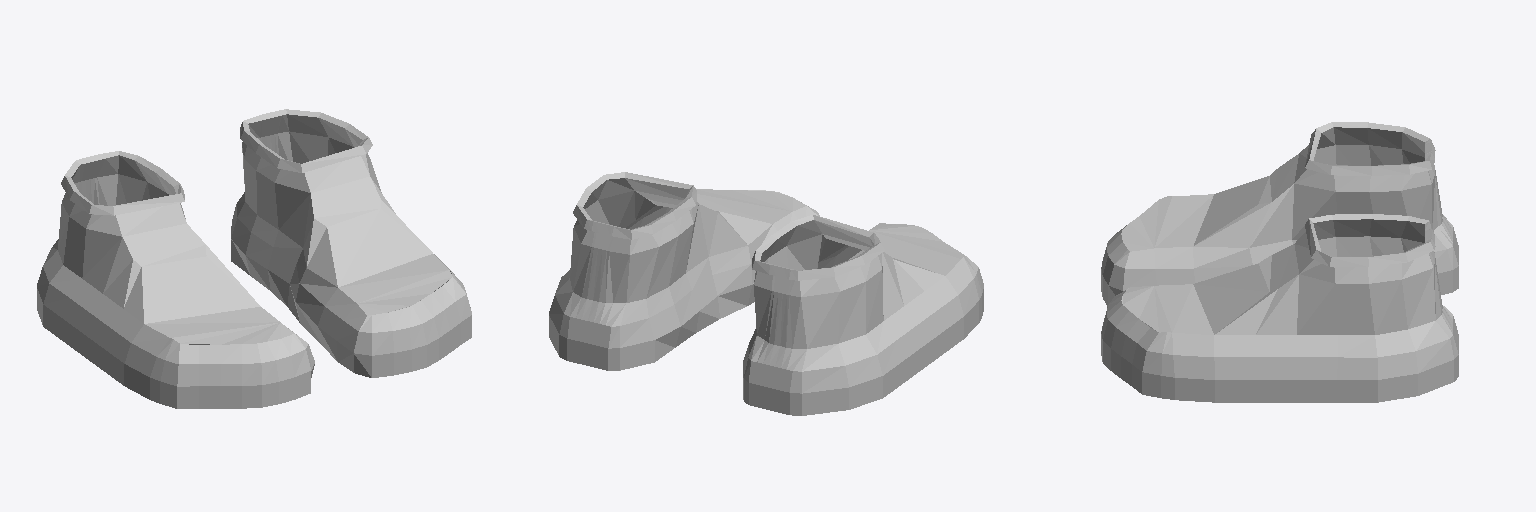
Rendered from Texture_Ready_Cartoon_Human_Shoes.obj.
3 renders of one model, left to right at view 1: azimuth 30°, elevation 25°; view 2: azimuth 150°, elevation 25°; view 3: azimuth 270°, elevation 25°, orthographic.
Visible parts, largest first — view 1: Shoes; view 2: Shoes; view 3: Shoes.
Boxes of the visible parts, <box> form: Shoes: <box>37,109,471,408</box>; Shoes: <box>549,172,983,415</box>; Shoes: <box>1101,122,1458,402</box>.
Size of the model in its own units: 2.26 by 0.883 by 2.13.